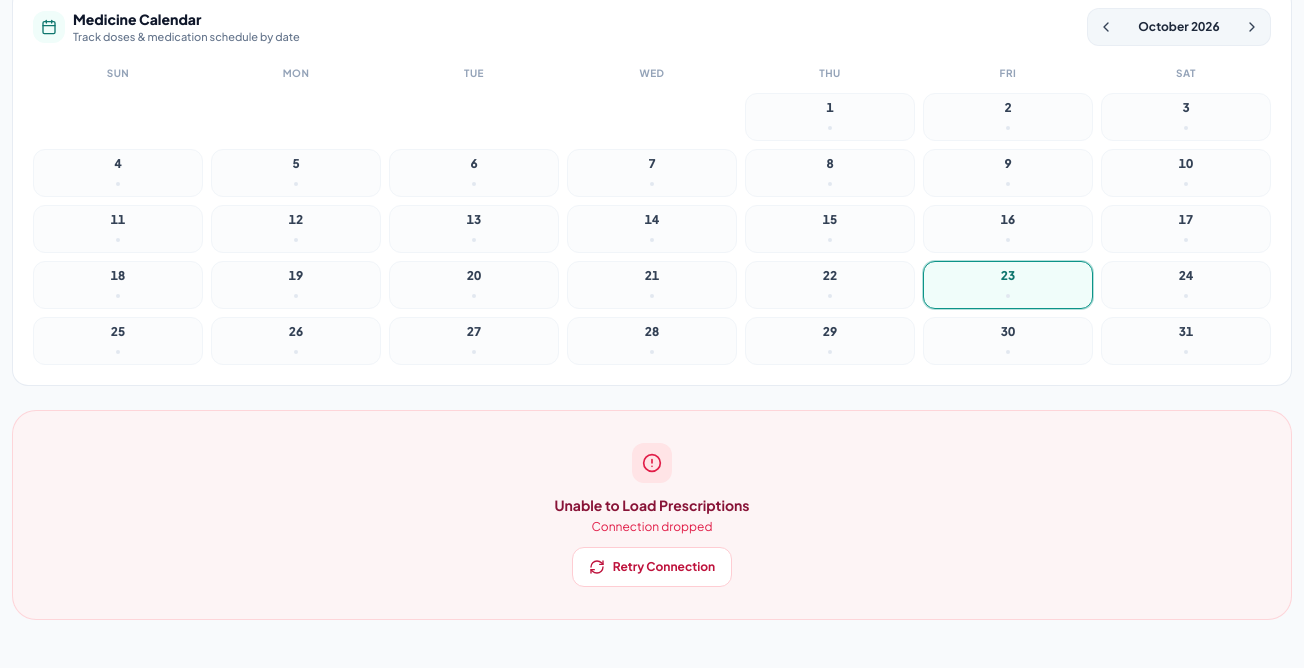
Test case: PHASE E — API Reliability, Patient Workflows & Production Hardening Suite › 3. Prescriptions Workflow: Honest Failure & Duplicate Prevention › 3.2 Re-initiating fetch via Retry restores medicine cabinet on network recovery
(page scrolled)
Expected: the element with test id "medicines-error-state" is shown, [12,410,1292,620]
Click the button "Retry Connection": (652, 567) [572,547,732,587]
(page scrolled)
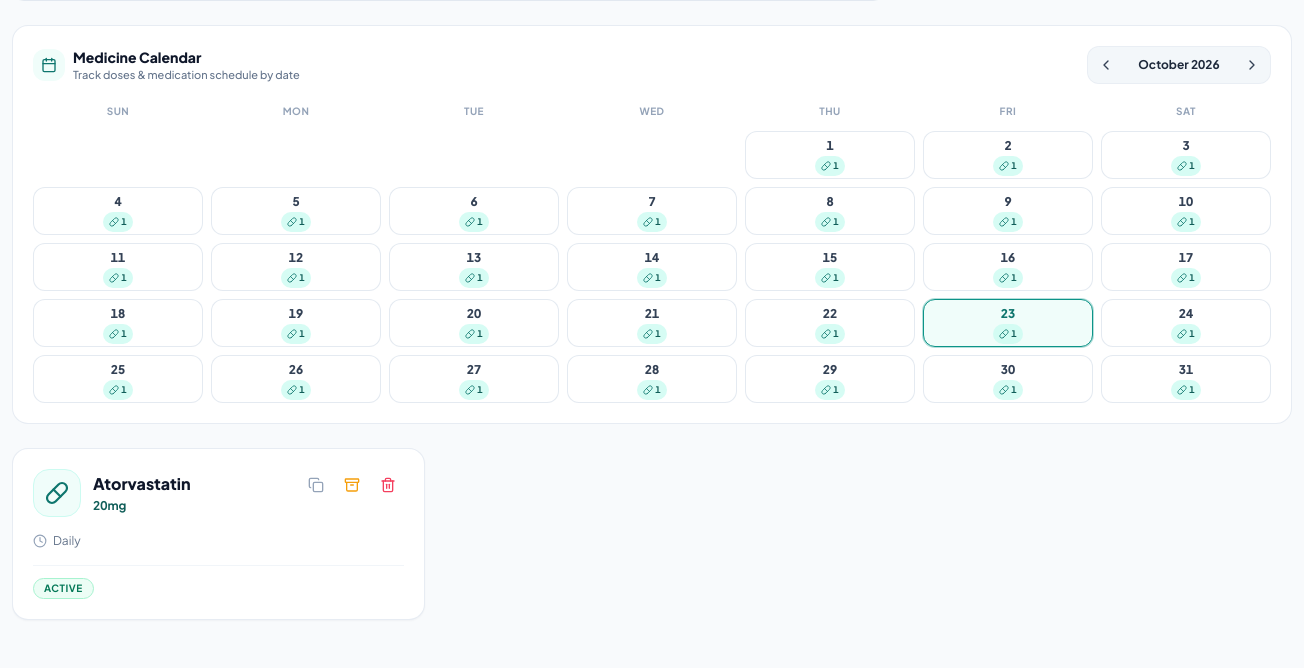
Expected: the heading "Atorvastatin" is shown, [93,473,190,494]
Expected: the element with test id "medicines-error-state" is gone
